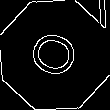O_E: (24, 26, 86, 84)
